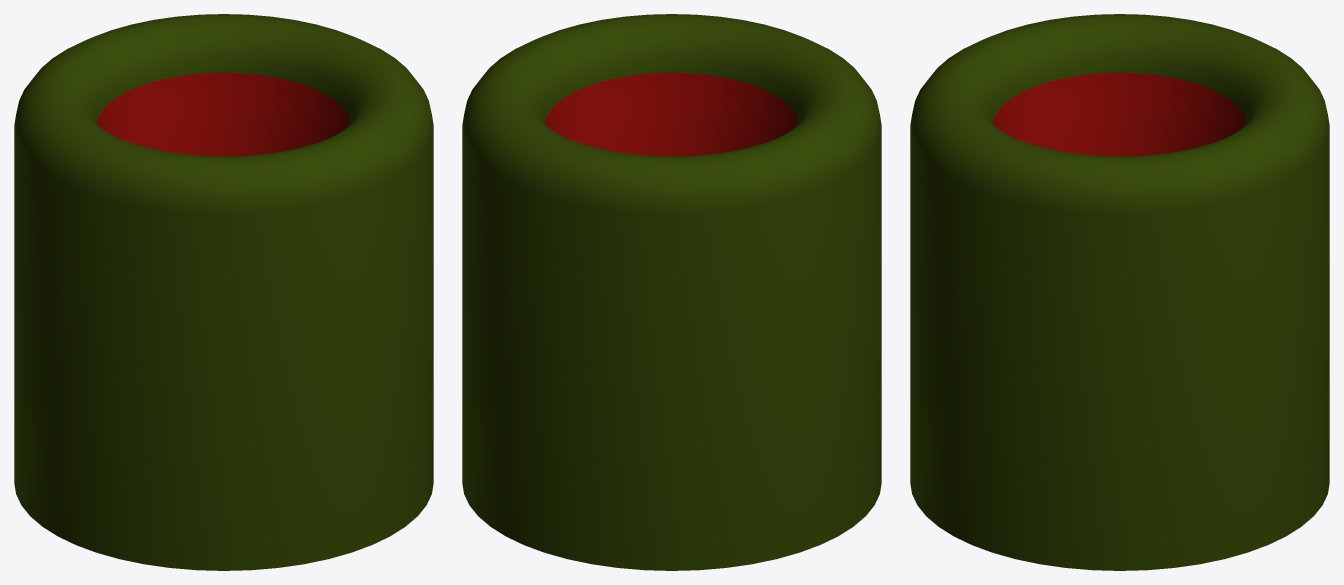
File: voidC.fbx
The picture shows the model from 3 angles, left to right: view 1: azimuth 30°, elevation 25°; view 2: azimuth 150°, elevation 25°; view 3: azimuth 270°, elevation 25°; orthographic projection.
Visible parts, largest first — view 1: void; view 2: void; view 3: void.
Boxes of the visible parts, box(x1,y1,x2,y2) form: void: box(14, 14, 433, 570); void: box(462, 14, 881, 570); void: box(910, 14, 1329, 570).
Size of the model in its own units: 254 by 263 by 254.
